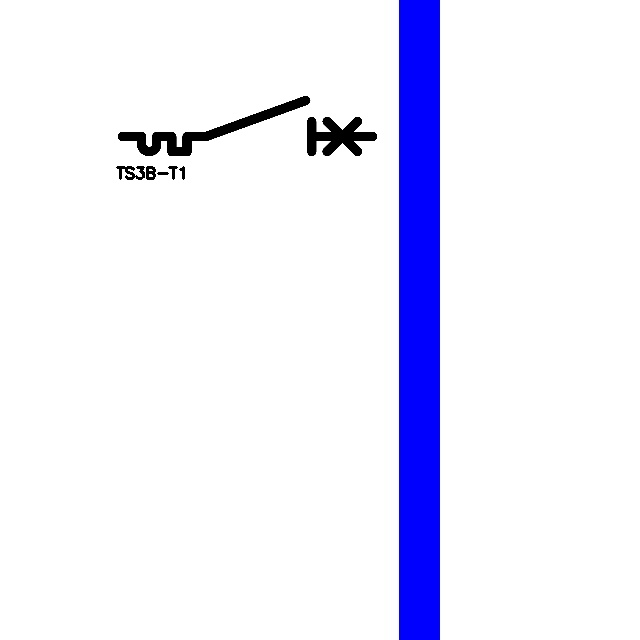interruptor_termomagnetico: (116, 94, 379, 158)
